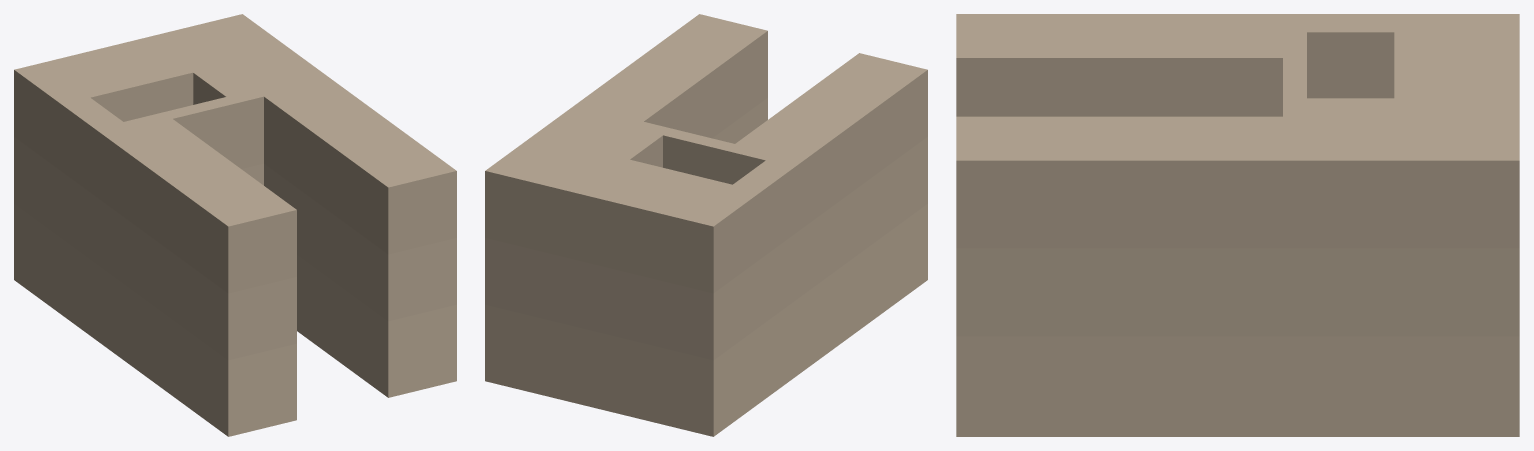
Rendered from massing.glb.
The picture shows the model from 3 angles, left to right: view 1: azimuth 30°, elevation 25°; view 2: azimuth 150°, elevation 25°; view 3: azimuth 270°, elevation 25°; orthographic projection. The views are drawn at different scales.
Parts seen in each view (by area): view 1: main/floor3/0, main/floor1/0, main/floor2/0; view 2: main/floor3/0, main/floor1/0, main/floor2/0; view 3: main/floor3/0, main/floor1/0, main/floor2/0.
Boxes of the visible parts, <box> form: main/floor3/0: <box>14,14,456,293</box>; main/floor1/0: <box>14,204,456,436</box>; main/floor2/0: <box>14,137,456,360</box>; main/floor3/0: <box>485,14,927,293</box>; main/floor1/0: <box>485,204,927,436</box>; main/floor2/0: <box>485,98,927,360</box>; main/floor3/0: <box>956,14,1519,248</box>; main/floor1/0: <box>956,336,1519,436</box>; main/floor2/0: <box>956,248,1519,336</box>.
Size of the model in its own units: 10 by 8.8 by 16.25.
